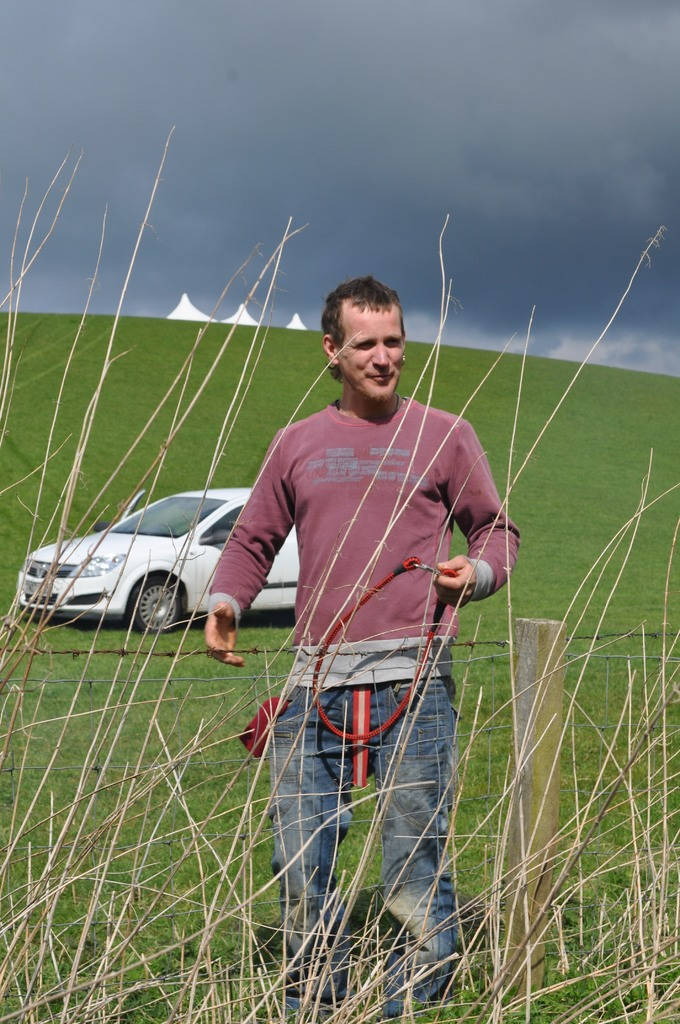Car: (16, 471, 261, 652)
